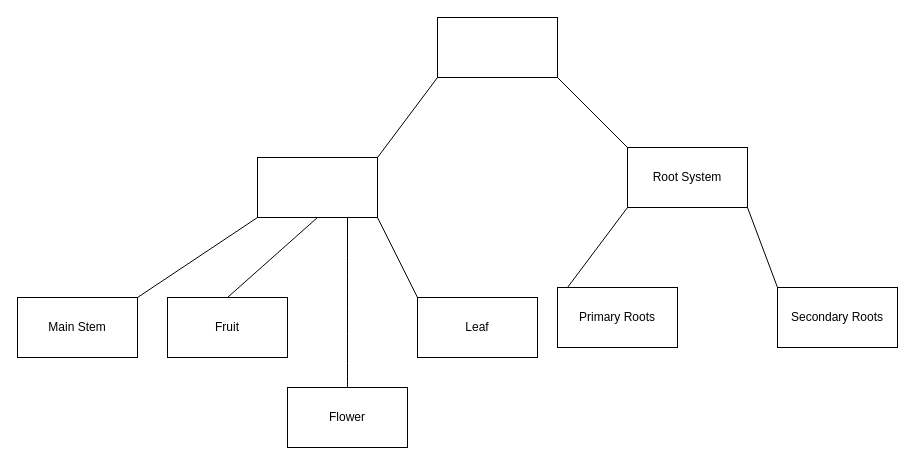
Image size: 915x465. Some labels were removed from this diagram. The centre of each missing label's shape, as x and y in pixels:
"Plants" goes at (497,47).
"Shoot System" goes at (317,187).
